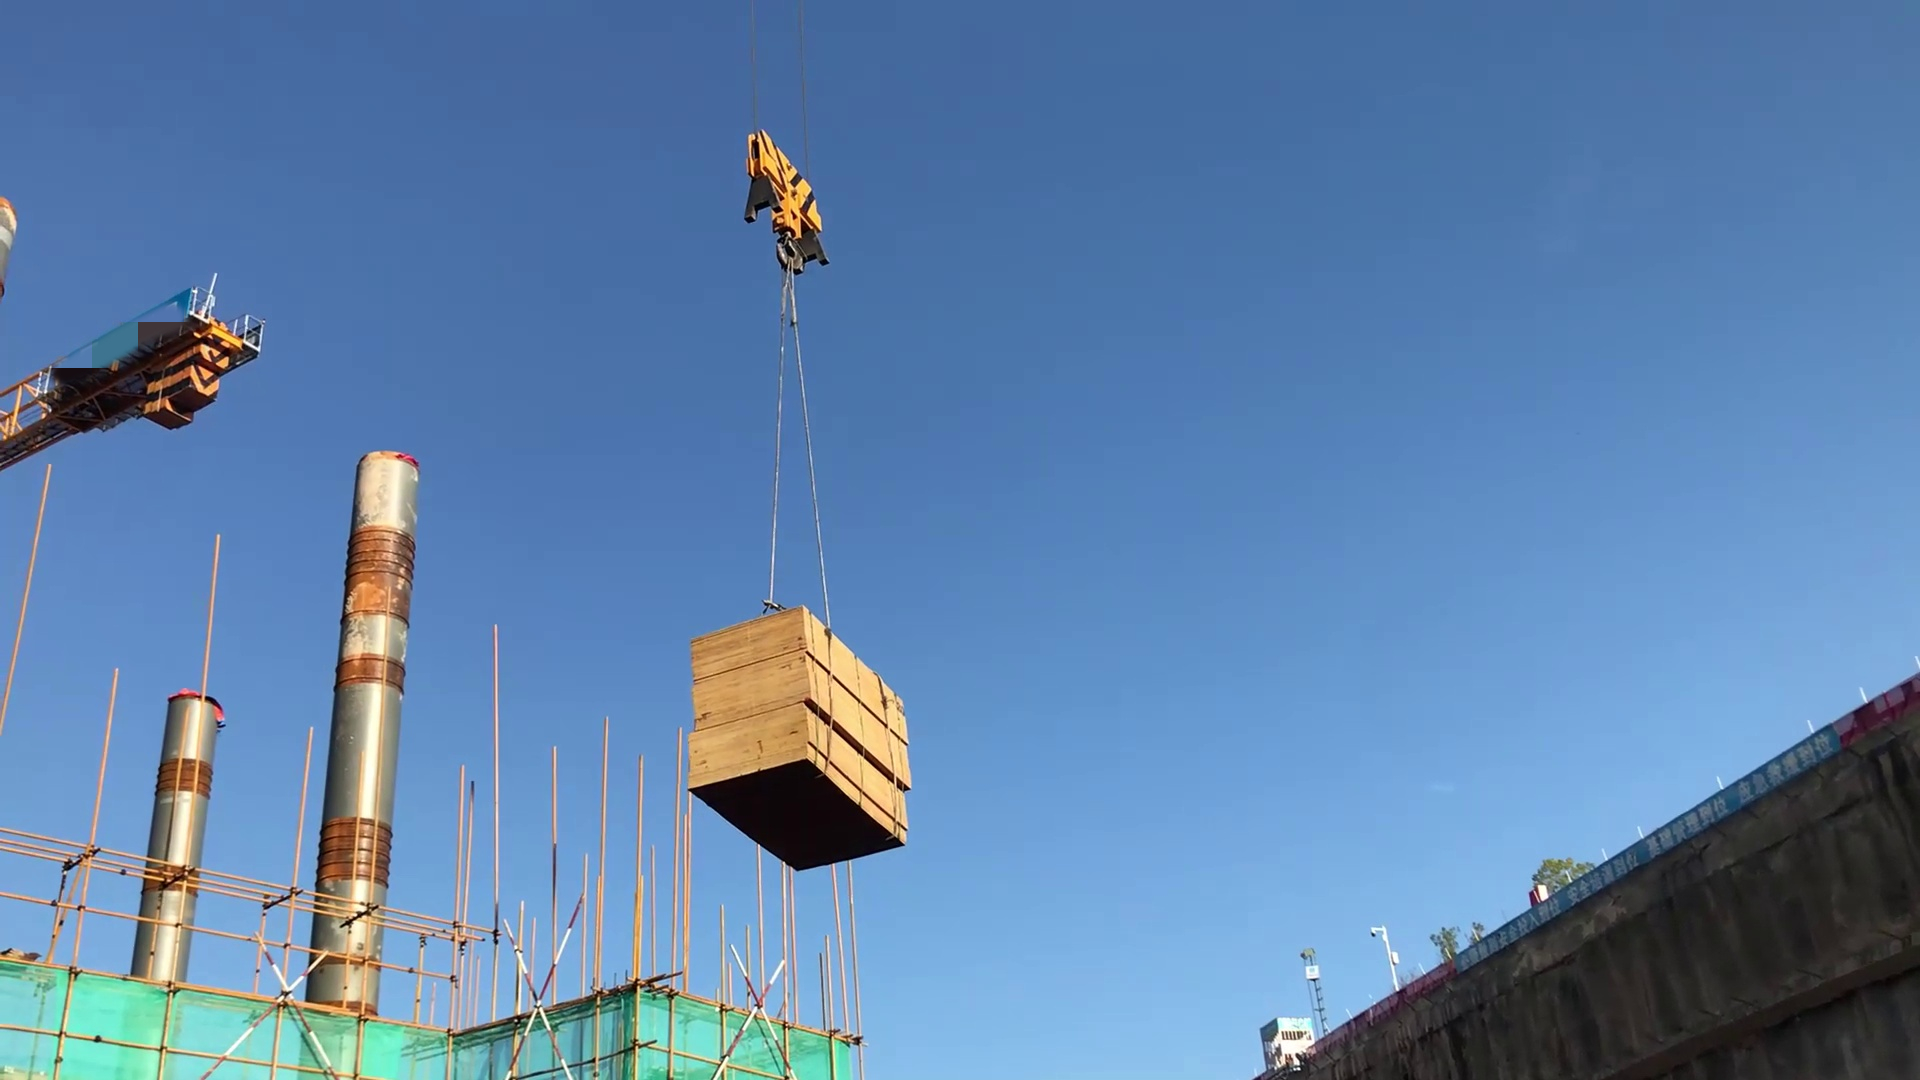board: (675, 601, 919, 872)
hook: (720, 102, 884, 375)
slogan: (1451, 712, 1847, 981)
